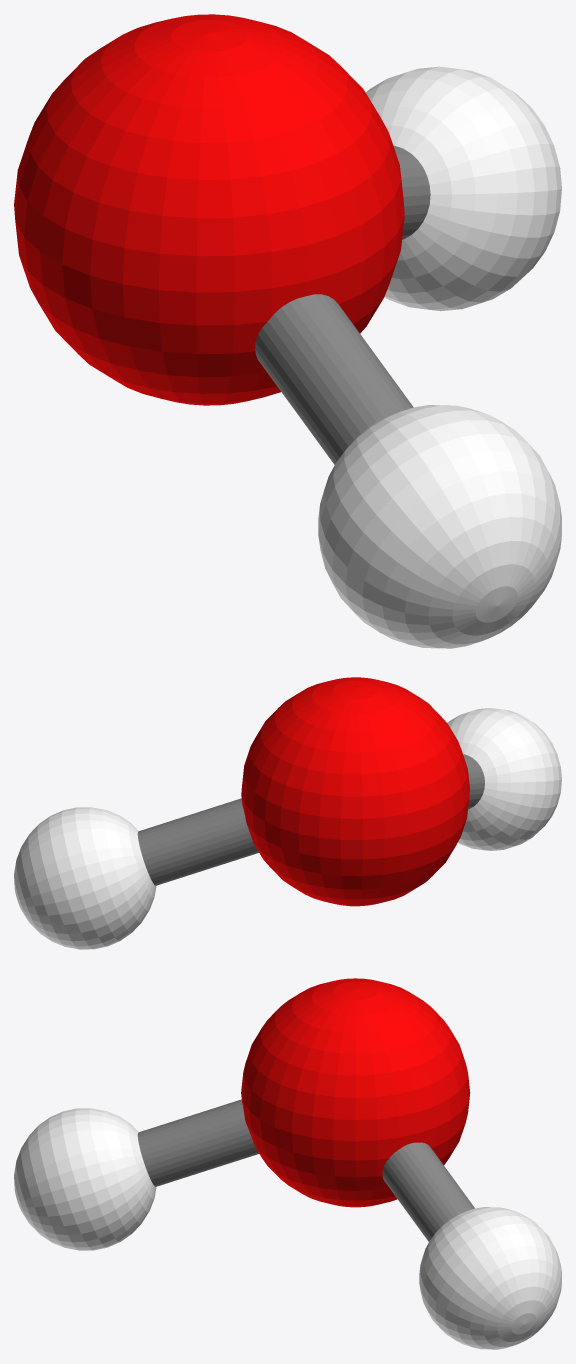
The model's file is water.blendd.fbx.
The picture shows the model from 3 angles, top to bottom: view 1: azimuth 30°, elevation 25°; view 2: azimuth 150°, elevation 25°; view 3: azimuth 270°, elevation 25°; orthographic projection. The views are drawn at different scales.
Visible parts, largest first — view 1: Sphere, hyd.001, hyd.002, bond.001, bond.002; view 2: Sphere, hyd.002, hyd.001, bond.002, bond.001; view 3: Sphere, hyd.002, hyd.001, bond.001, bond.002.
Boxes of the visible parts, <box> form: Sphere: <box>14,14,404,405</box>; hyd.001: <box>318,405,561,648</box>; hyd.002: <box>366,66,561,311</box>; bond.001: <box>255,294,413,464</box>; bond.002: <box>393,145,430,239</box>; Sphere: <box>241,677,469,906</box>; hyd.002: <box>14,807,156,949</box>; hyd.001: <box>447,708,561,850</box>; bond.002: <box>137,798,258,885</box>; bond.001: <box>463,754,484,809</box>; Sphere: <box>241,978,470,1207</box>; hyd.002: <box>419,1207,561,1349</box>; hyd.001: <box>14,1108,156,1250</box>; bond.001: <box>137,1099,259,1186</box>; bond.002: <box>382,1142,474,1241</box>.
Bounding box in the file's own units: 293 × 197 × 383.
